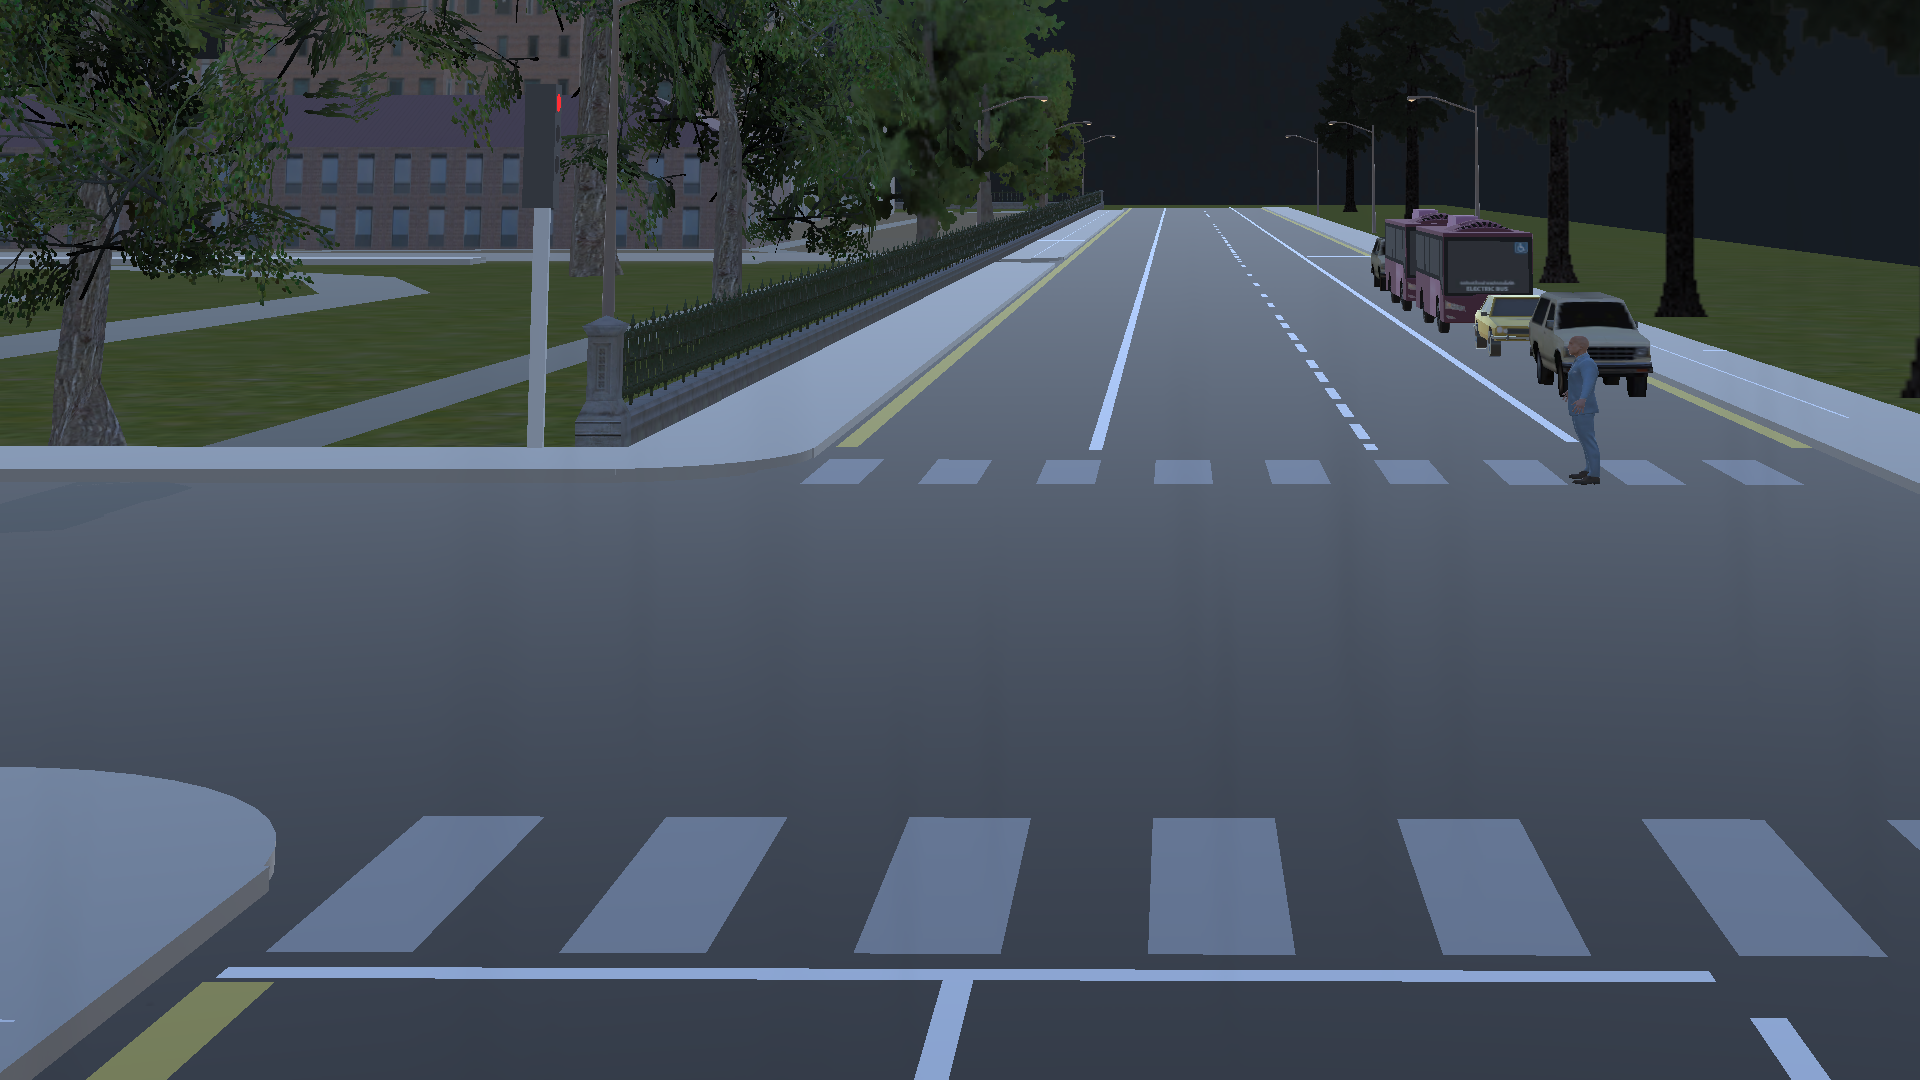pedestrian: (1546, 330, 1614, 491)
